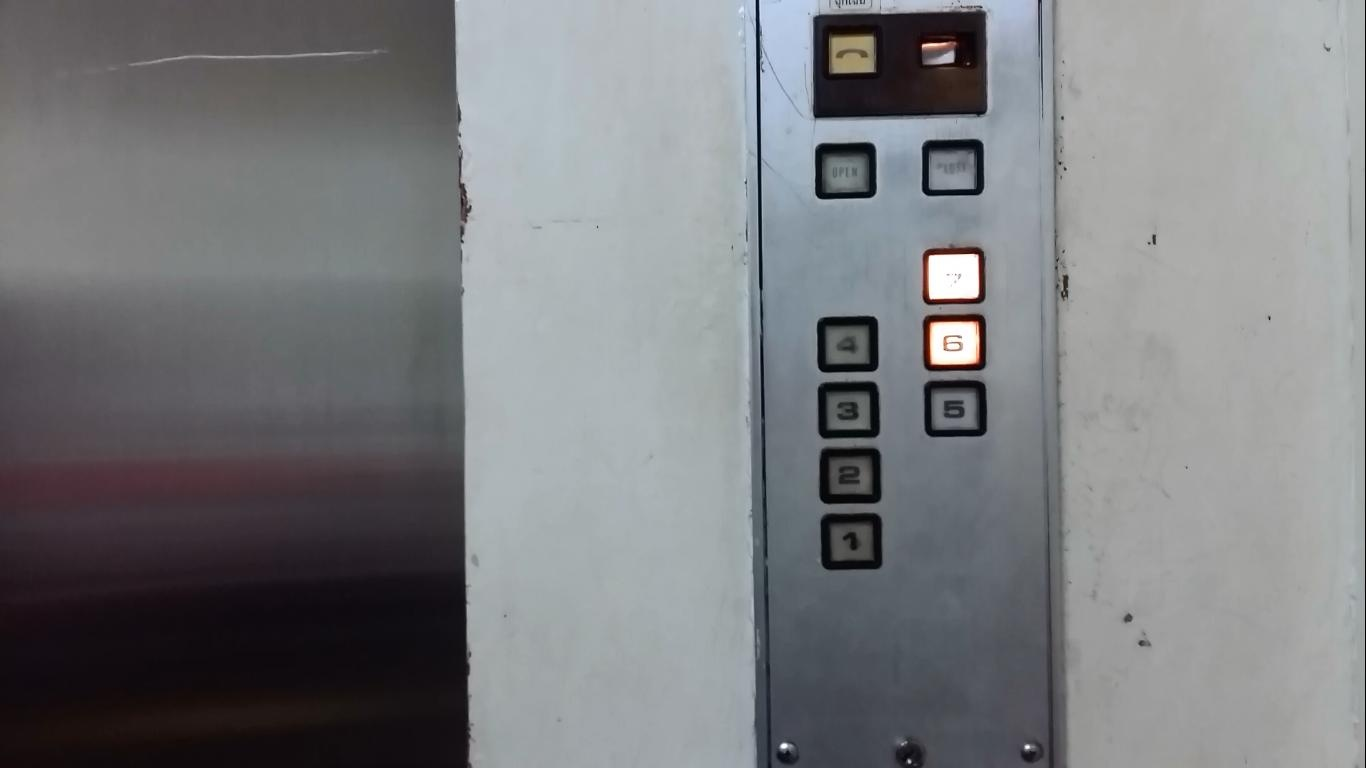1: (816, 511, 885, 574)
2: (815, 445, 885, 506)
3: (814, 378, 883, 440)
4: (814, 313, 882, 376)
5: (921, 378, 989, 440)
6: (920, 312, 989, 373)
blur: (919, 245, 989, 307)
call: (826, 33, 879, 77)
text_blur: (919, 136, 986, 198)
text_open: (812, 140, 880, 202)
